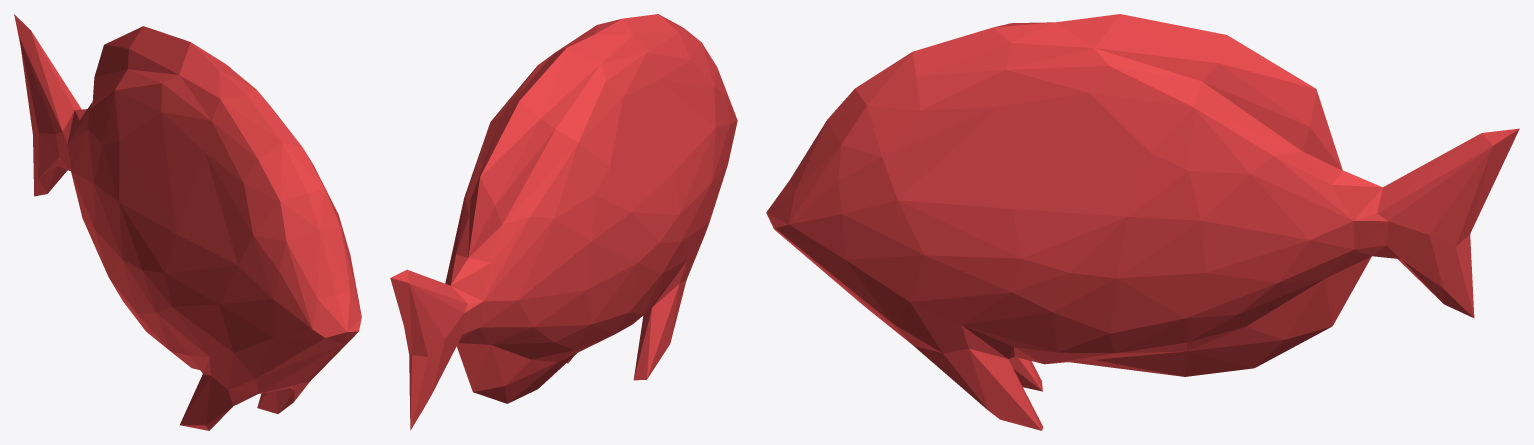
Rendered from Fish_08.fbx.
The picture shows the model from 3 angles, left to right: view 1: azimuth 30°, elevation 25°; view 2: azimuth 150°, elevation 25°; view 3: azimuth 270°, elevation 25°; orthographic projection. The views are drawn at different scales.
Parts seen in each view (by area): view 1: Fish_08; view 2: Fish_08; view 3: Fish_08.
Part boxes in pixels (x1,y1,x2,y2): Fish_08: [14, 14, 361, 430]; Fish_08: [390, 14, 737, 430]; Fish_08: [766, 14, 1519, 430].
Bounding box in the file's own units: 99.18 × 234 × 404.
